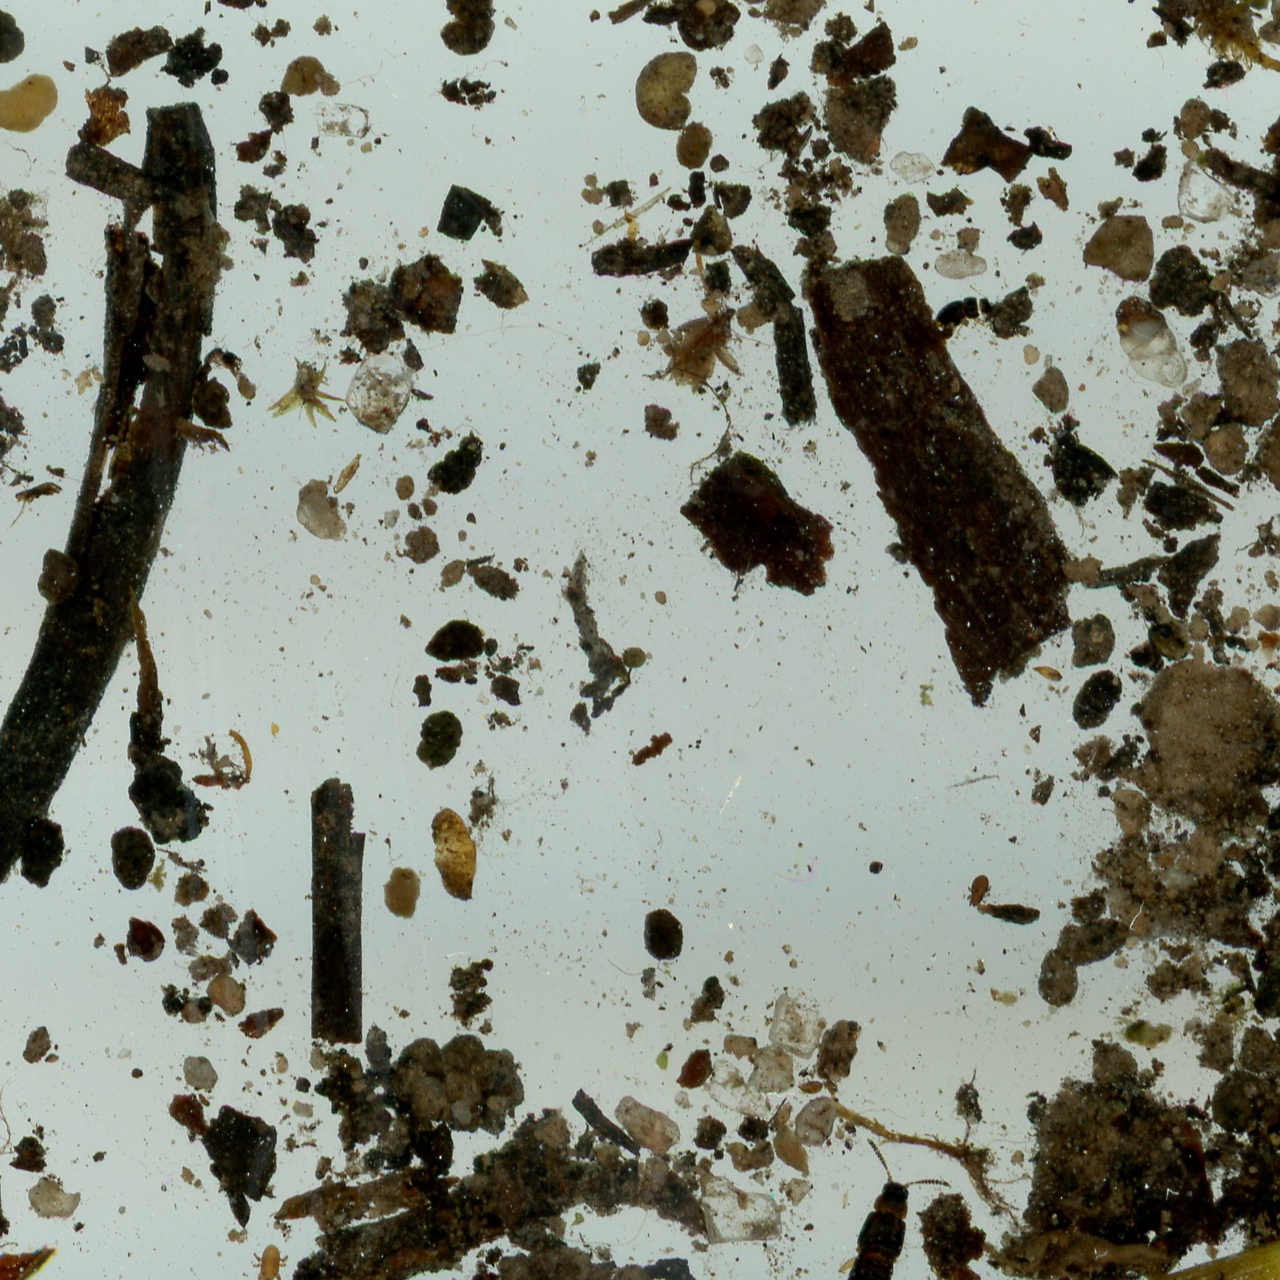arthropod: (816, 1131, 961, 1280), (836, 1138, 944, 1280), (1101, 281, 1200, 406), (926, 278, 1002, 346), (0, 81, 18, 374), (962, 867, 996, 914), (251, 1239, 288, 1280), (251, 1242, 290, 1280), (967, 870, 990, 911), (796, 1076, 825, 1096), (797, 1080, 823, 1094)
